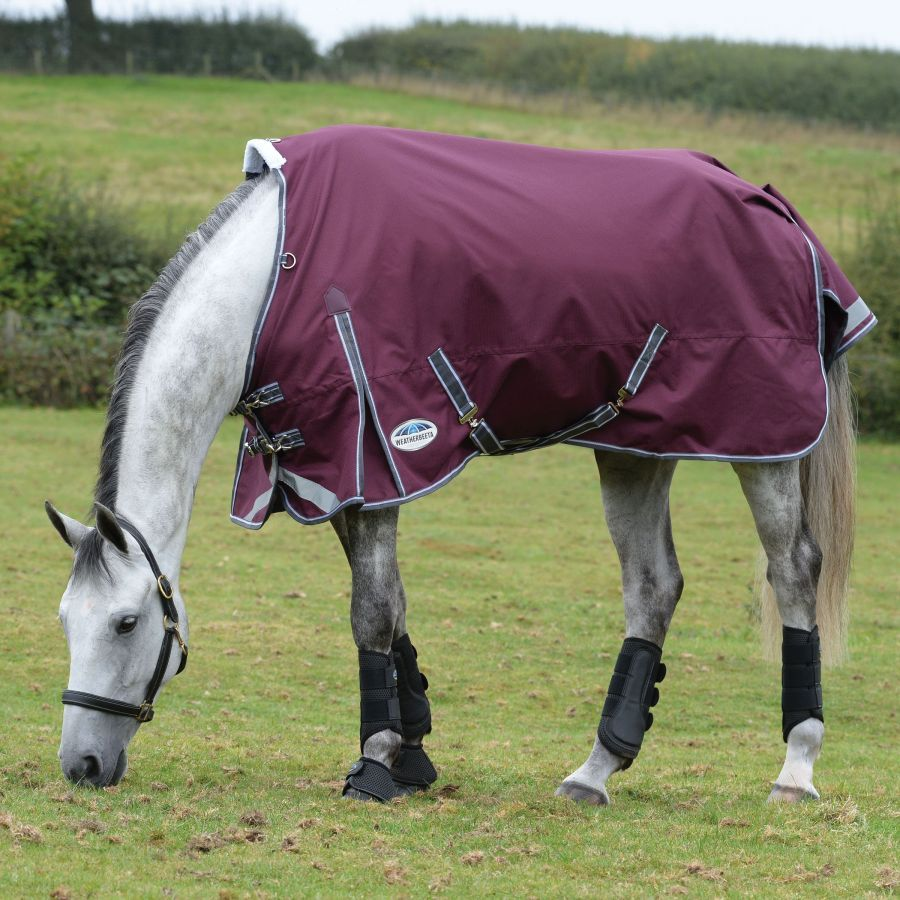Horse: (47, 93, 847, 856)
